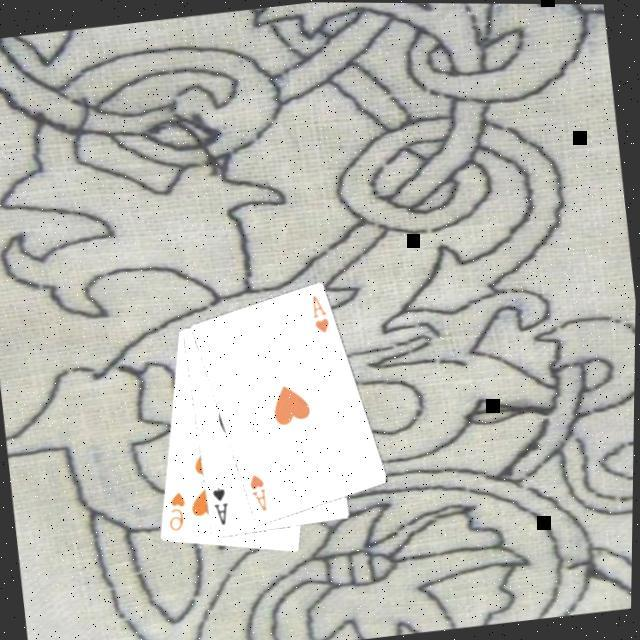9H: (165, 487, 195, 535)
AH: (248, 470, 276, 516), (308, 291, 336, 337)
AS: (211, 483, 237, 529)
